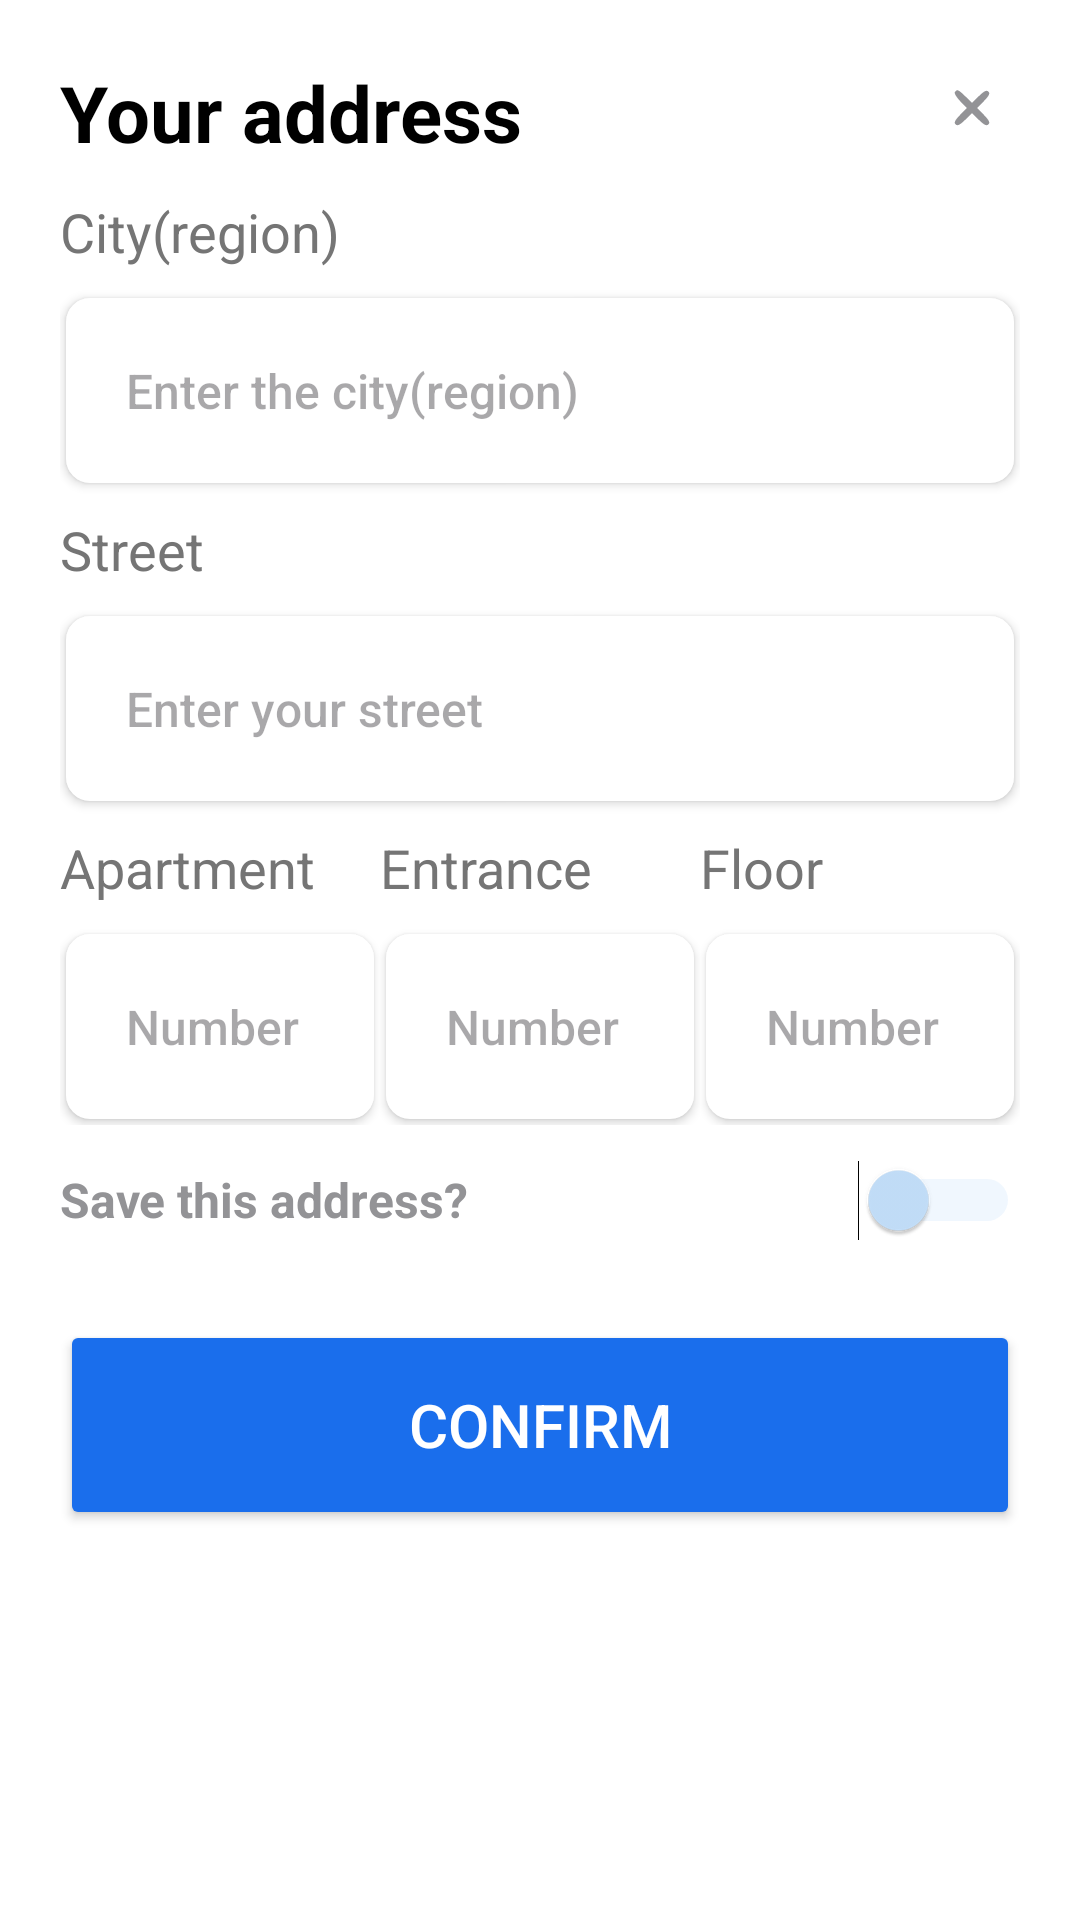

Icon click points for this 1080w x 1920h phone screenshot, format [x,y]:
cross: [972,107]
